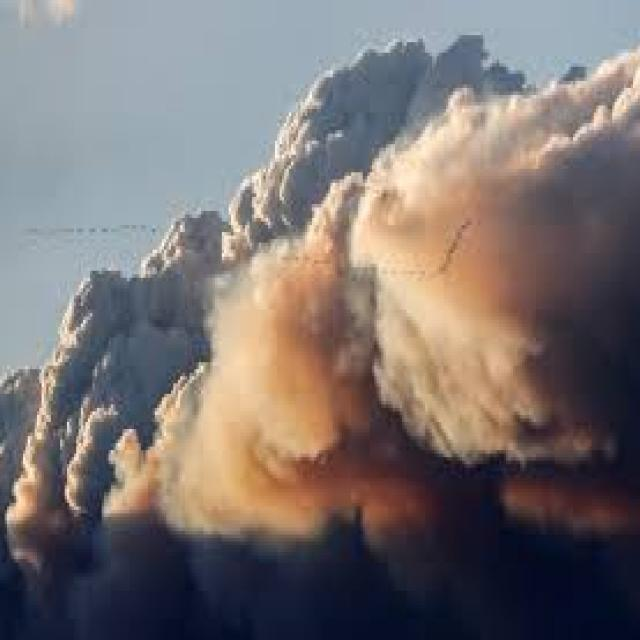Smoke: (381, 65, 640, 464), (56, 268, 366, 532), (232, 80, 371, 250)
